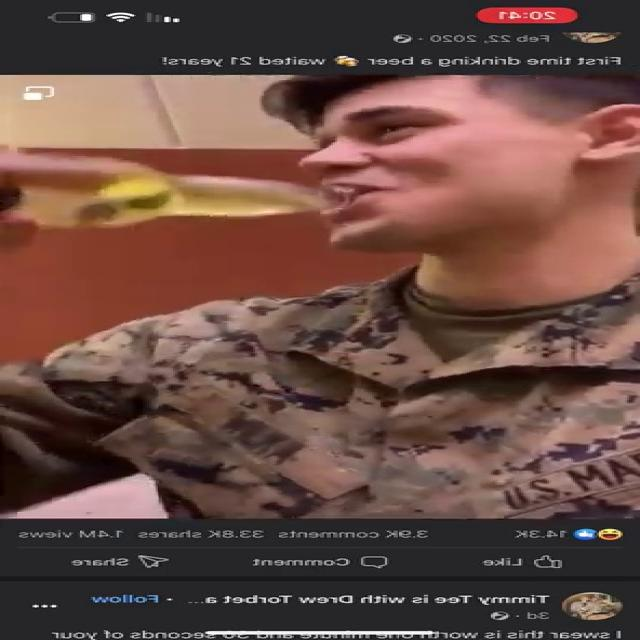Bottle: (2, 156, 343, 227)
Hand: (0, 140, 56, 252)
Mouth: (306, 177, 408, 215)
